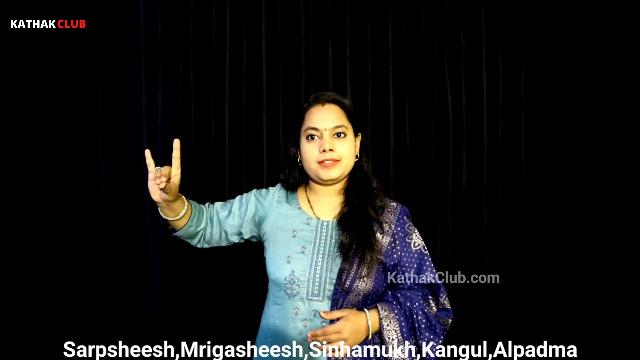sinhamukh: (141, 130, 201, 226)
